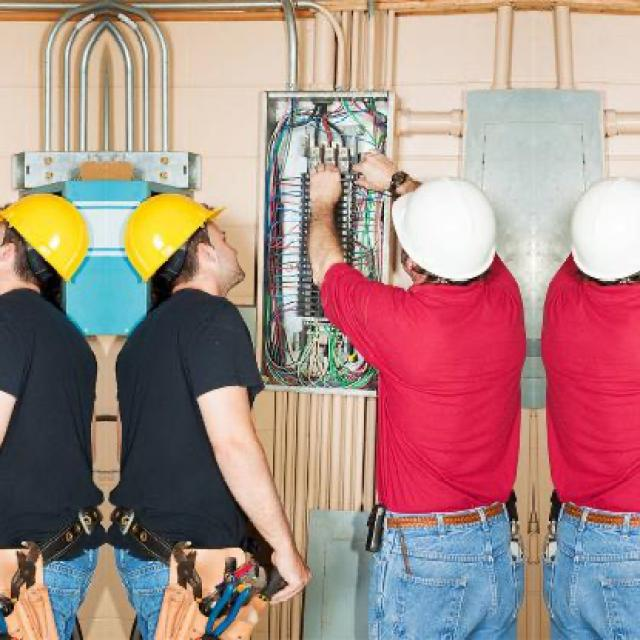helmet: (367, 155, 523, 337), (543, 156, 640, 338), (109, 183, 233, 312), (2, 183, 104, 314)
